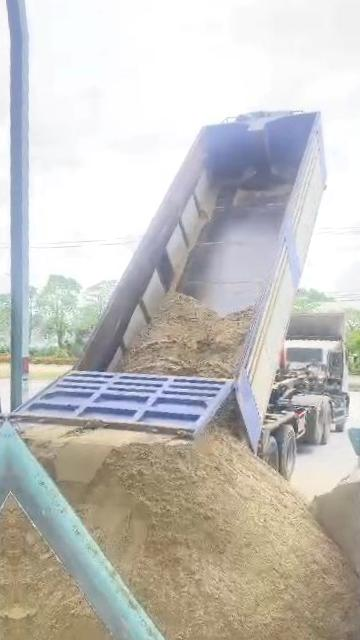sand: (61, 396, 358, 640), (13, 508, 156, 640), (121, 293, 252, 377), (24, 423, 171, 485), (311, 481, 360, 574)
